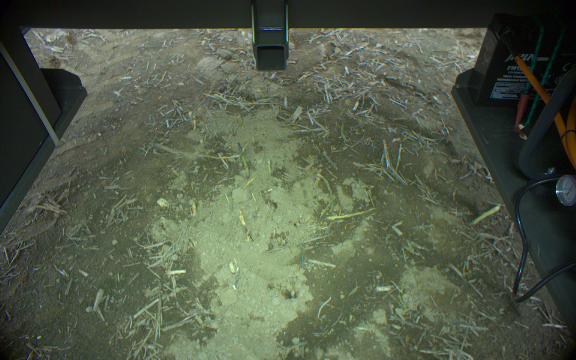aspa: (327, 205, 375, 222), (309, 172, 334, 202), (472, 204, 500, 226), (235, 140, 249, 179)
